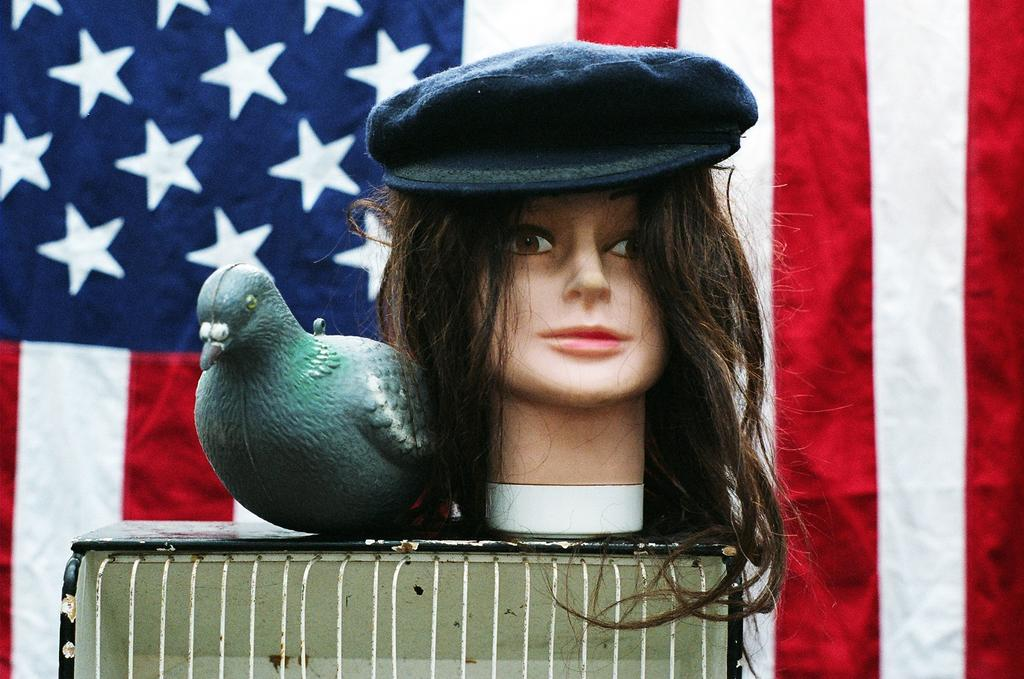Hat: (365, 33, 758, 197)
